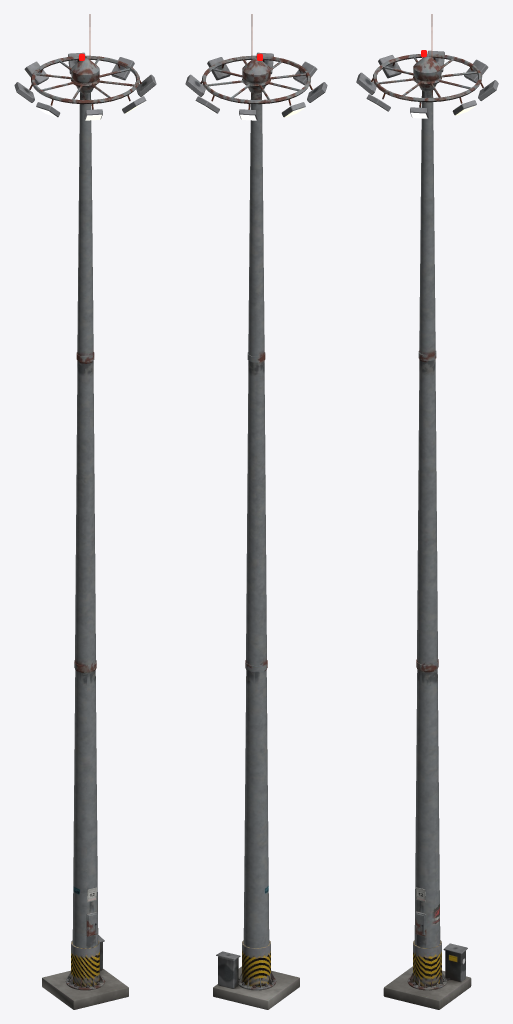
Rendered from light_mast.glb.
The picture shows the model from 3 angles, left to right: view 1: azimuth 30°, elevation 25°; view 2: azimuth 150°, elevation 25°; view 3: azimuth 330°, elevation 25°; orthographic projection.
Parts seen in each view (by area): view 1: light_mast; view 2: light_mast; view 3: light_mast.
Boxes of the visible parts, box(x1,y1,x2,y2) form: light_mast: box(14, 14, 156, 1009); light_mast: box(185, 14, 327, 1009); light_mast: box(356, 14, 498, 1009).
Size of what is drawn, in the model's own units: 4.01 by 31.7 by 4.01.
Materials: 1 (1 with a texture image).
